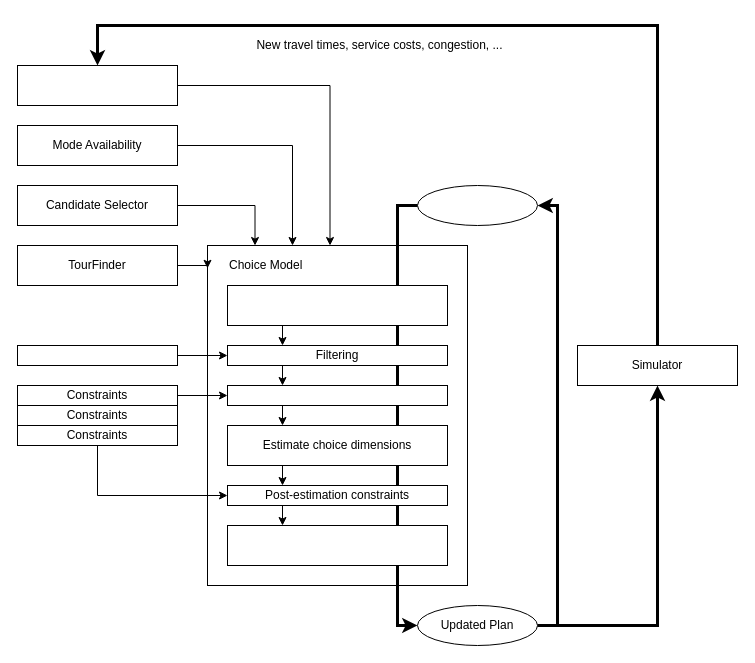
This 755x663 diagram has some shape labels left out. Each missing label, with the centre of its shape:
"Agent Plan" goes at (x=477, y=205).
"Estimator" goes at (x=97, y=85).
"Filters" goes at (x=97, y=355).
"Generate alternatives" goes at (x=337, y=305).
"Pre-estimation constraints" goes at (x=337, y=395).
"Select candidate" goes at (x=337, y=545).
